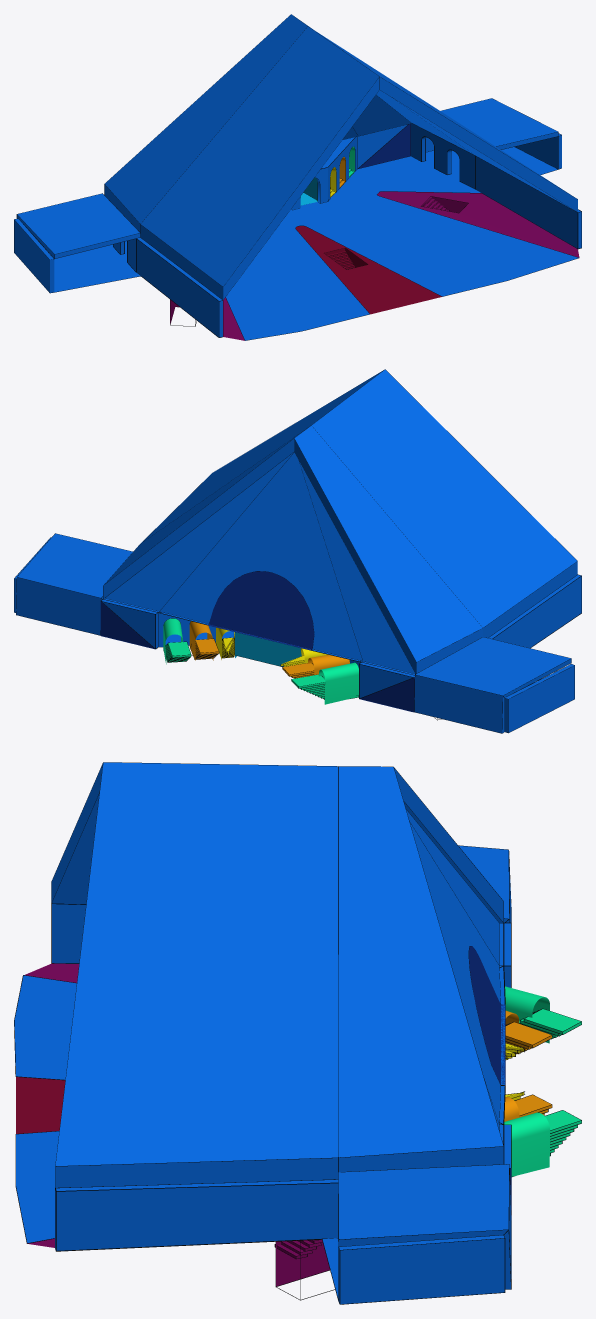
Rendered from mainroom.fbx.
The picture shows the model from 3 angles, top to bottom: view 1: azimuth 30°, elevation 25°; view 2: azimuth 150°, elevation 25°; view 3: azimuth 270°, elevation 25°; orthographic projection. The views are drawn at different scales.
Visible parts, largest first — view 1: roof, floor, walls, wing1, vhsape, sing2, Plane.016, walls.006, wall, wall.002, stairwellarh1; view 2: roof, wing1, sing2, walls, stairwellarh1, innerroom, wall, stairsup1, stairsup6, stairsup5; view 3: roof, sing2, walls, floor, stairwellarh1, Plane.016, wing1, stairwell3, stairsup1, stairsup2, stairsup6, vhsape.
Part boxes in pixels (<box>): roof: <box>104,14,577,299</box>; floor: <box>44,147,579,340</box>; walls: <box>136,124,581,337</box>; wing1: <box>14,193,140,293</box>; vhsape: <box>223,191,579,340</box>; sing2: <box>426,98,561,169</box>; Plane.016: <box>295,226,441,314</box>; walls.006: <box>410,123,475,189</box>; wall: <box>328,137,357,201</box>; wall.002: <box>291,167,327,210</box>; stairwellarh1: <box>330,146,354,191</box>; roof: <box>103,369,577,674</box>; wing1: <box>414,637,574,733</box>; sing2: <box>14,533,132,635</box>; walls: <box>100,574,581,712</box>; stairwellarh1: <box>163,618,358,704</box>; innerroom: <box>234,632,301,666</box>; wall: <box>158,613,360,667</box>; stairsup1: <box>291,674,358,699</box>; stairsup6: <box>163,641,191,662</box>; stairsup5: <box>189,638,219,659</box>; roof: <box>51,762,504,1187</box>; sing2: <box>338,1164,511,1304</box>; walls: <box>51,903,511,1251</box>; floor: <box>14,975,338,1300</box>; stairwellarh1: <box>504,986,549,1176</box>; Plane.016: <box>16,1077,65,1133</box>; wing1: <box>458,845,511,922</box>; stairwell3: <box>275,1241,334,1300</box>; stairsup1: <box>519,1008,581,1039</box>; stairsup2: <box>505,1021,552,1054</box>; stairsup6: <box>512,1110,581,1176</box>; vhsape: <box>25,963,79,1247</box>.
Bounding box in the file's own units: 3926 × 1888 × 2301.
